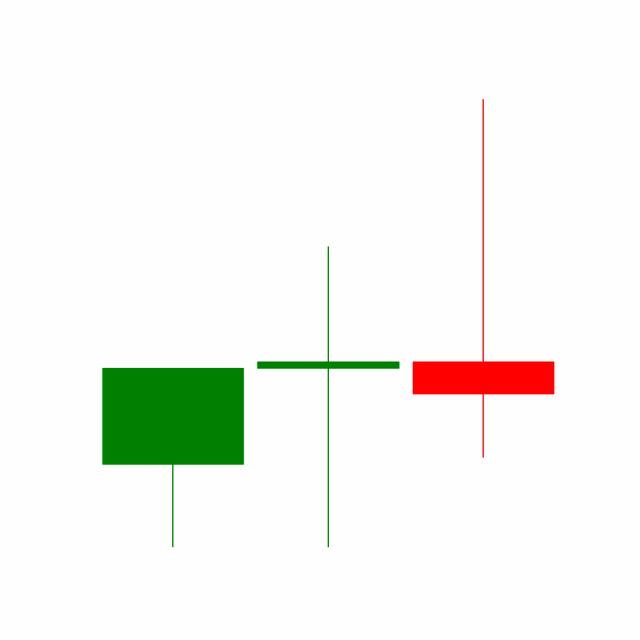Spinning Top: (249, 243, 406, 551)
